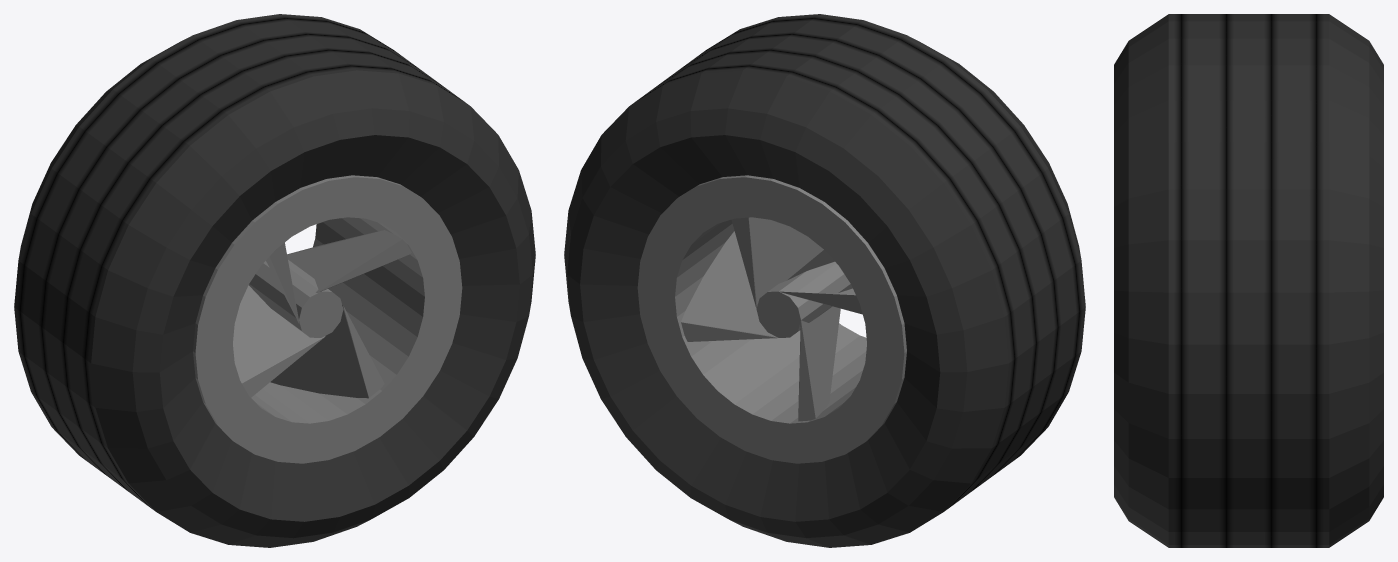
The model's file is lem2w_hi-poly2.obj.
The picture shows the model from 3 angles, left to right: view 1: azimuth 30°, elevation 25°; view 2: azimuth 150°, elevation 25°; view 3: azimuth 270°, elevation 25°; orthographic projection. The views are drawn at different scales.
Parts seen in each view (by area): view 1: tire_Cylinder, rim_Cylinder.001; view 2: tire_Cylinder, rim_Cylinder.001; view 3: tire_Cylinder.
Part boxes in pixels (x1,y1,x2,y2): tire_Cylinder: (14, 14, 535, 547); rim_Cylinder.001: (193, 175, 462, 463); tire_Cylinder: (564, 14, 1085, 547); rim_Cylinder.001: (637, 175, 906, 463); tire_Cylinder: (1114, 14, 1383, 547).
Bounding box in the file's own units: 2 × 2 × 1.01.
